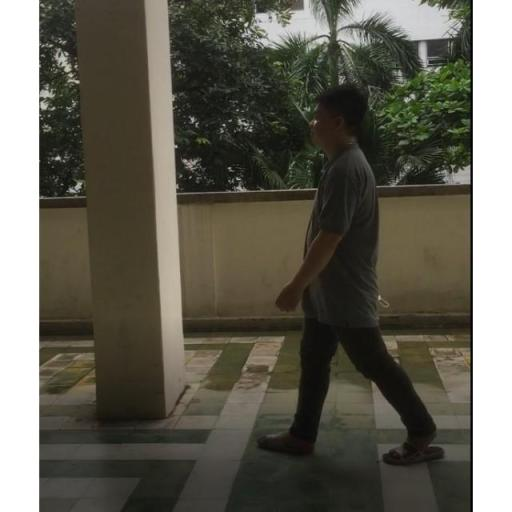Running: (251, 76, 443, 466)
